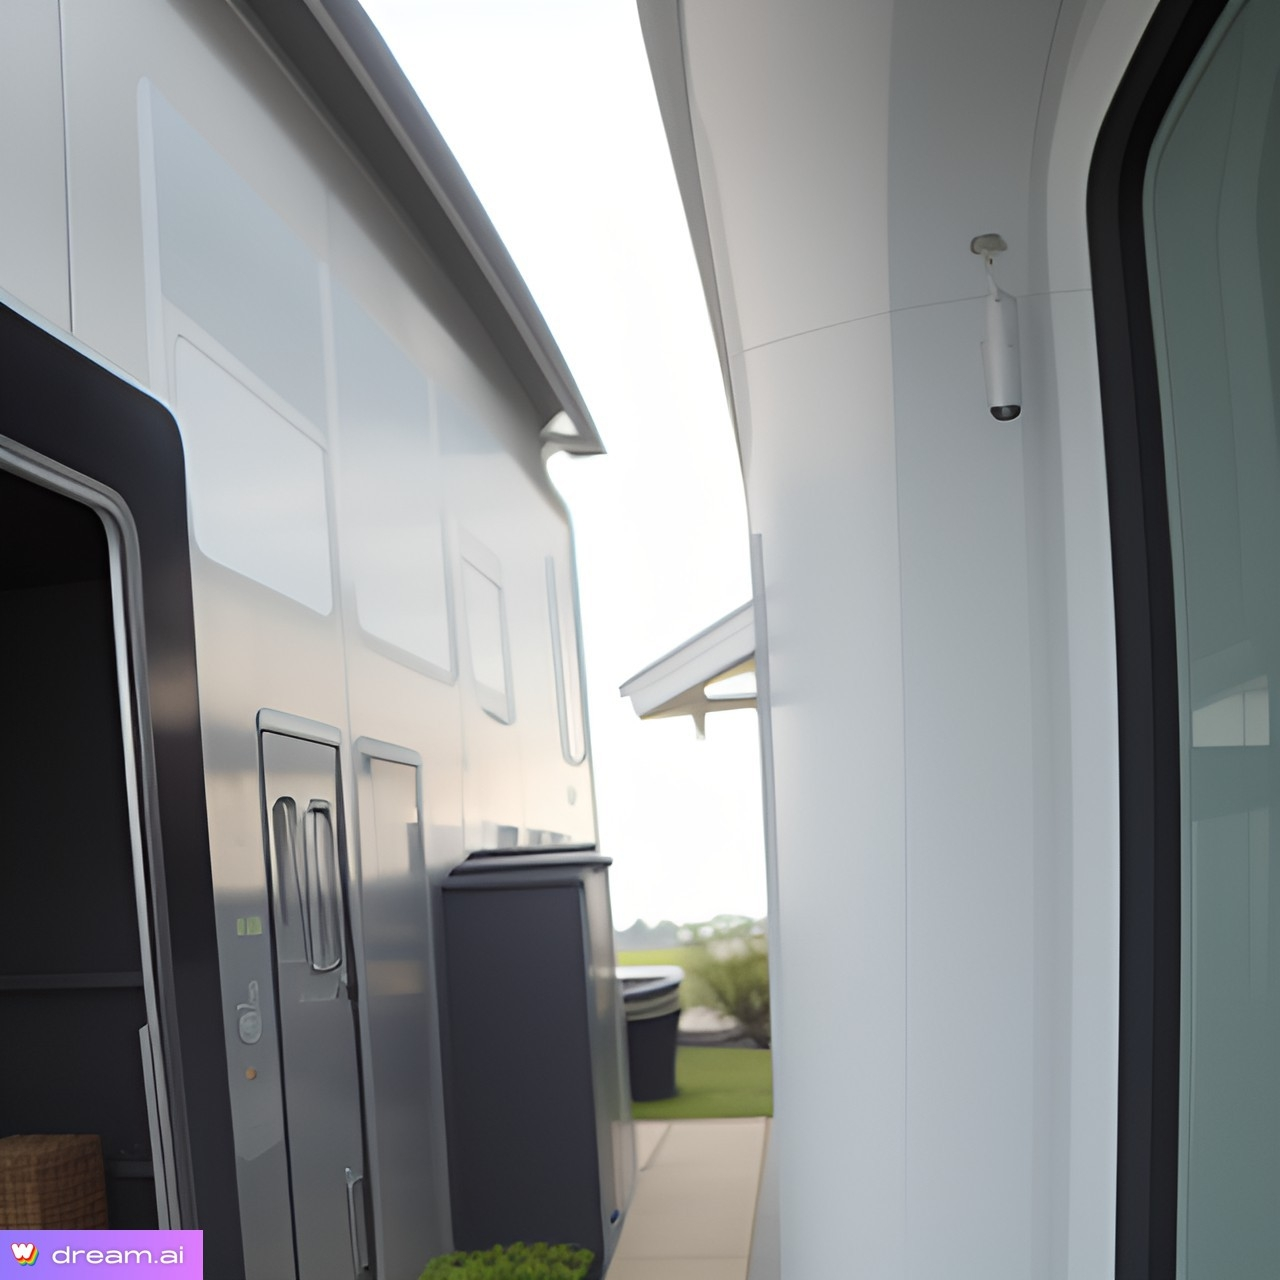window_front: (610, 565, 835, 804)
